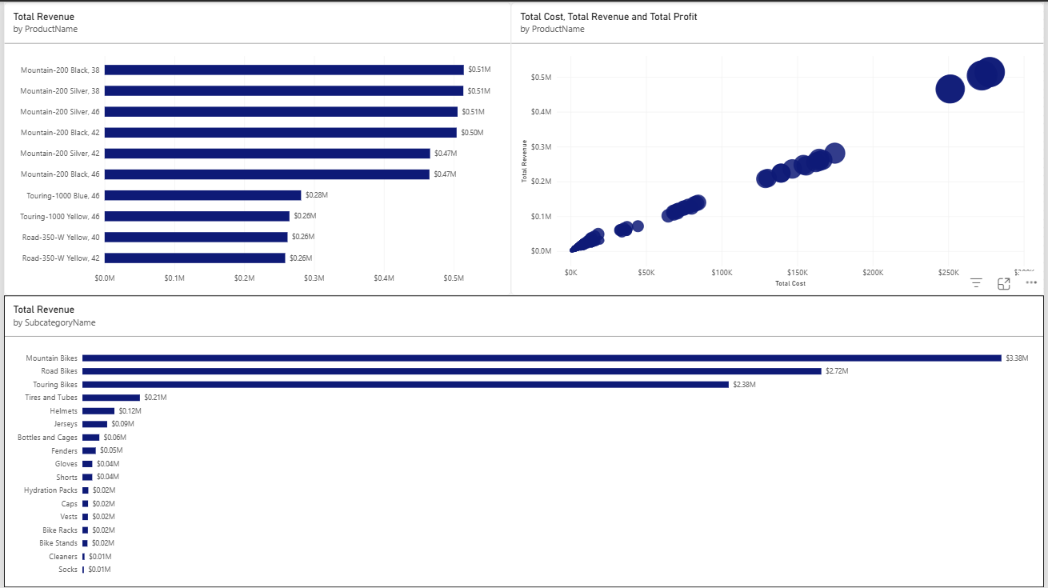

The dashboard page shown, as its layout file describes it:
{"tool":"powerbi","page":{"name":"Product Analysis","canvas":[1920,1080],"ordinal":1},"visuals":[{"type":"clusteredBarChart","fields":{"Category":["Products.ProductName"],"Y":["_Measures.Total Revenue"]},"box":[0,0,936,540.9],"z":0},{"type":"scatterChart","fields":{"Category":["Products.ProductName"],"Size":["_Measures.Total Profit"],"X":["_Measures.Total Cost"],"Y":["_Measures.Total Revenue"]},"box":[936,0,984,540.9],"z":1000},{"type":"clusteredBarChart","fields":{"Category":["Subcategories.SubcategoryName"],"Y":["_Measures.Total Revenue"]},"box":[0,540.9,1920,539.1],"z":2000}]}

Visuals, with their boxes in screenshot pixels (x1, y1, x2, y2), scaled from the page's 1920x1080 canvas onto the 1048x588 screenshot:
clusteredBarChart - Products.ProductName x _Measures.Total Revenue: x1=0 y1=0 x2=511 y2=294
scatterChart - Products.ProductName x _Measures.Total Profit: x1=511 y1=0 x2=1047 y2=294
clusteredBarChart - Subcategories.SubcategoryName x _Measures.Total Revenue: x1=0 y1=294 x2=1047 y2=587
